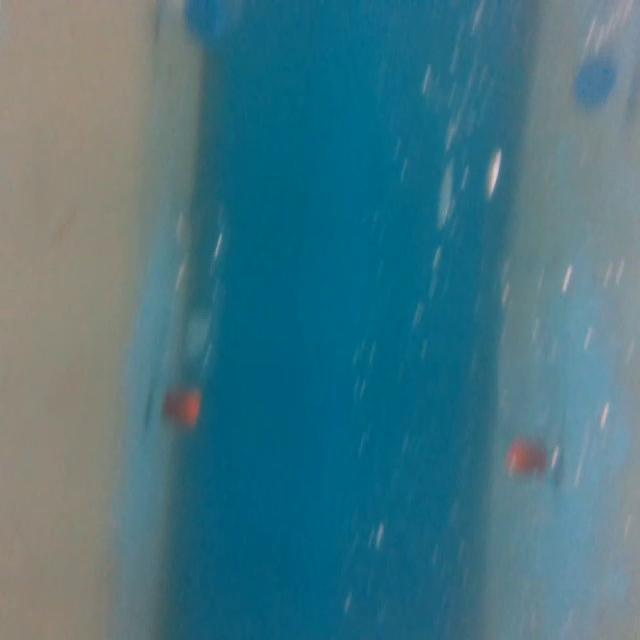plastic bottle: (158, 189, 231, 431)
